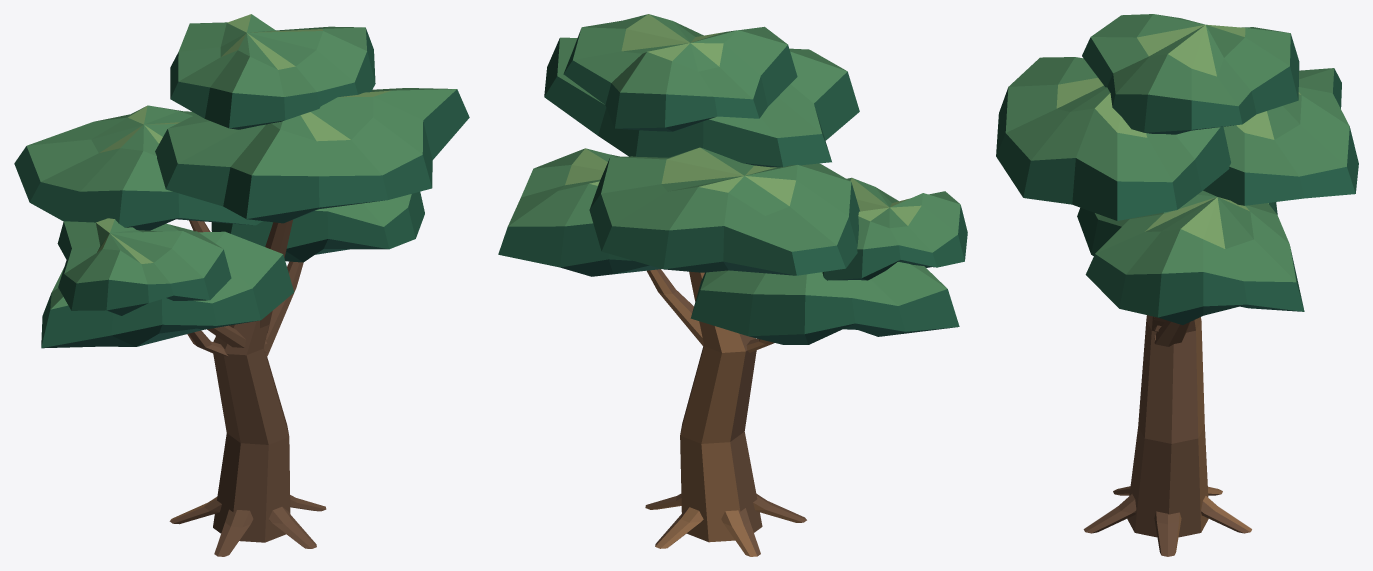
Rendered from watchwood_tree.glb.
The picture shows the model from 3 angles, left to right: view 1: azimuth 30°, elevation 25°; view 2: azimuth 150°, elevation 25°; view 3: azimuth 270°, elevation 25°; orthographic projection. The views are drawn at different scales.
Visible parts, largest first — view 1: Crooked_watchwood_trunk; view 2: Crooked_watchwood_trunk; view 3: Crooked_watchwood_trunk.
Part boxes in pixels (<box>): Crooked_watchwood_trunk: <box>14,14,469,556</box>; Crooked_watchwood_trunk: <box>498,14,967,556</box>; Crooked_watchwood_trunk: <box>996,14,1358,556</box>.
Size of the model in its own units: 4.27 by 4.71 by 3.08.
